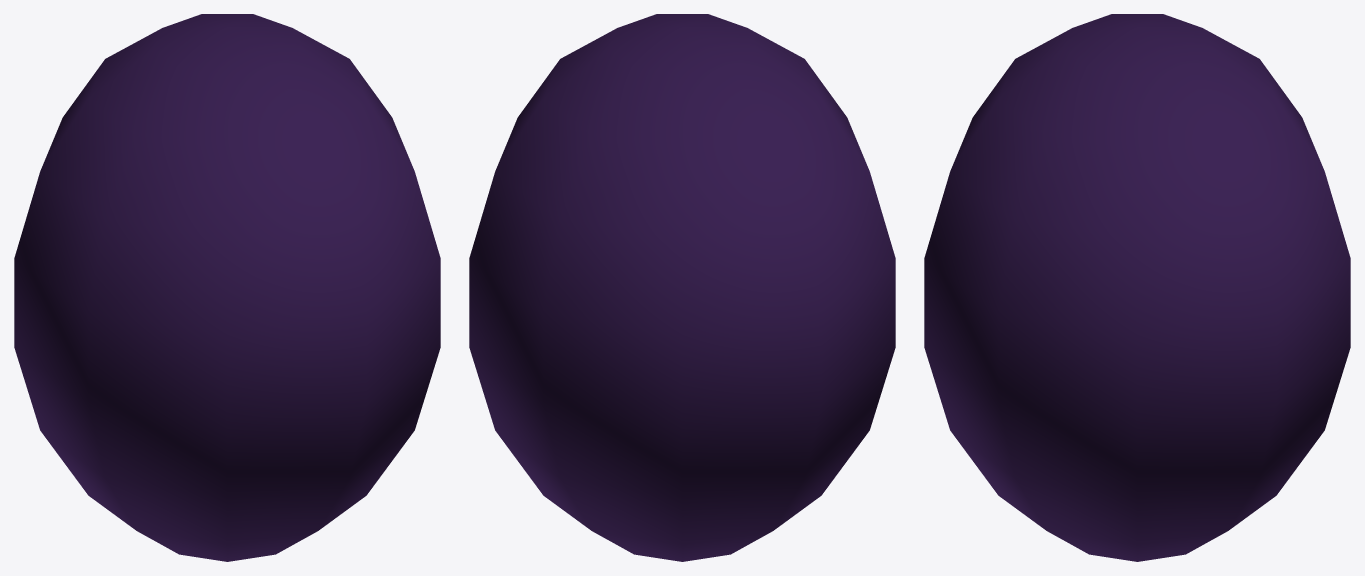
File: velune_stage1.obj
3 views of the same model, side by side, from view 1: azimuth 30°, elevation 25°; view 2: azimuth 150°, elevation 25°; view 3: azimuth 270°, elevation 25° (orthographic).
Bounding box in the file's own units: 1.34 × 1.82 × 1.36.
